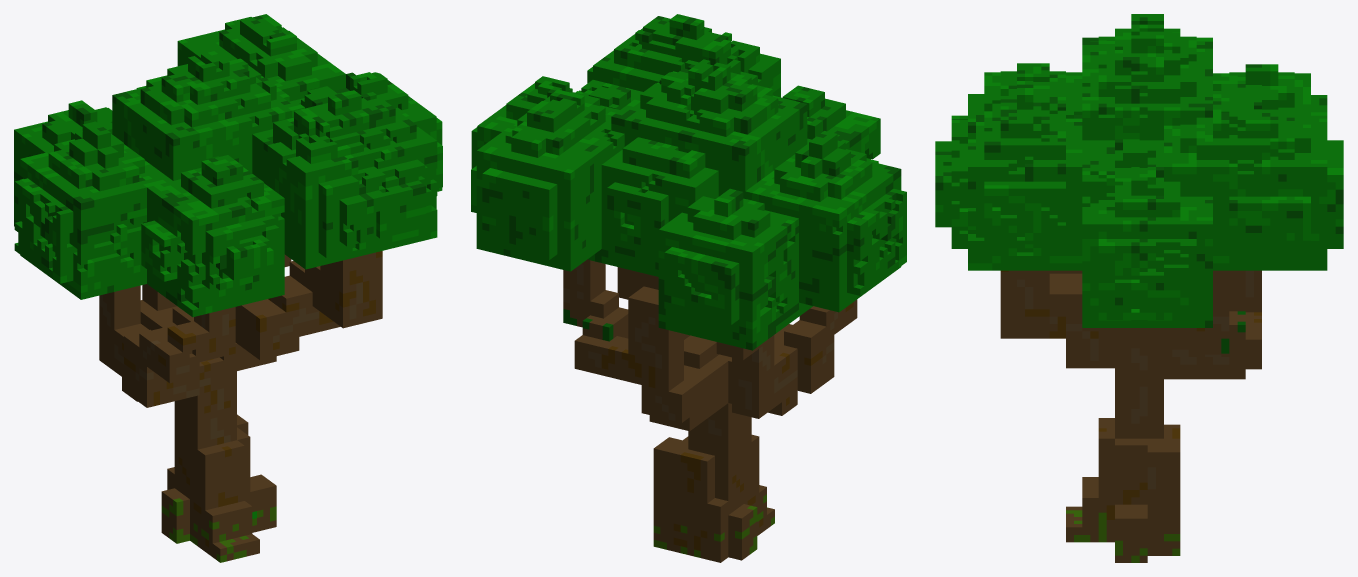
Rendered from tree2.obj.
3 renders of one model, left to right at view 1: azimuth 30°, elevation 25°; view 2: azimuth 150°, elevation 25°; view 3: azimuth 270°, elevation 25°, orthographic. The views are drawn at different scales.
Size of the model in its own units: 5.8 by 6.8 by 5.
